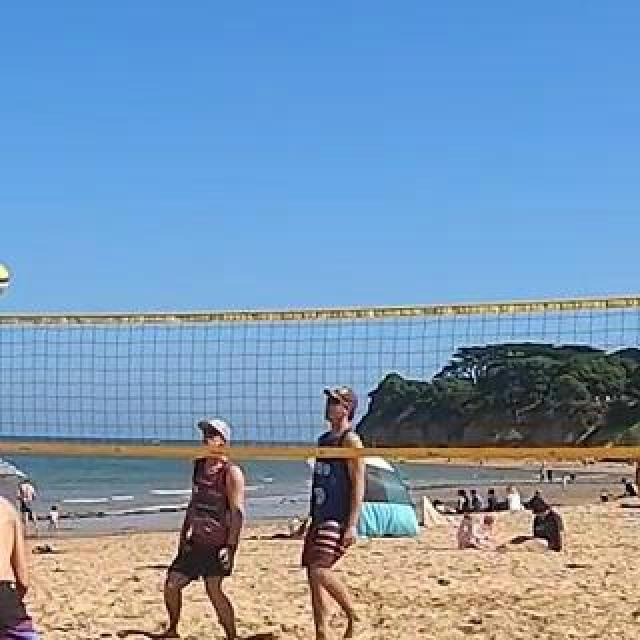volleyball: (0, 265, 10, 291)
